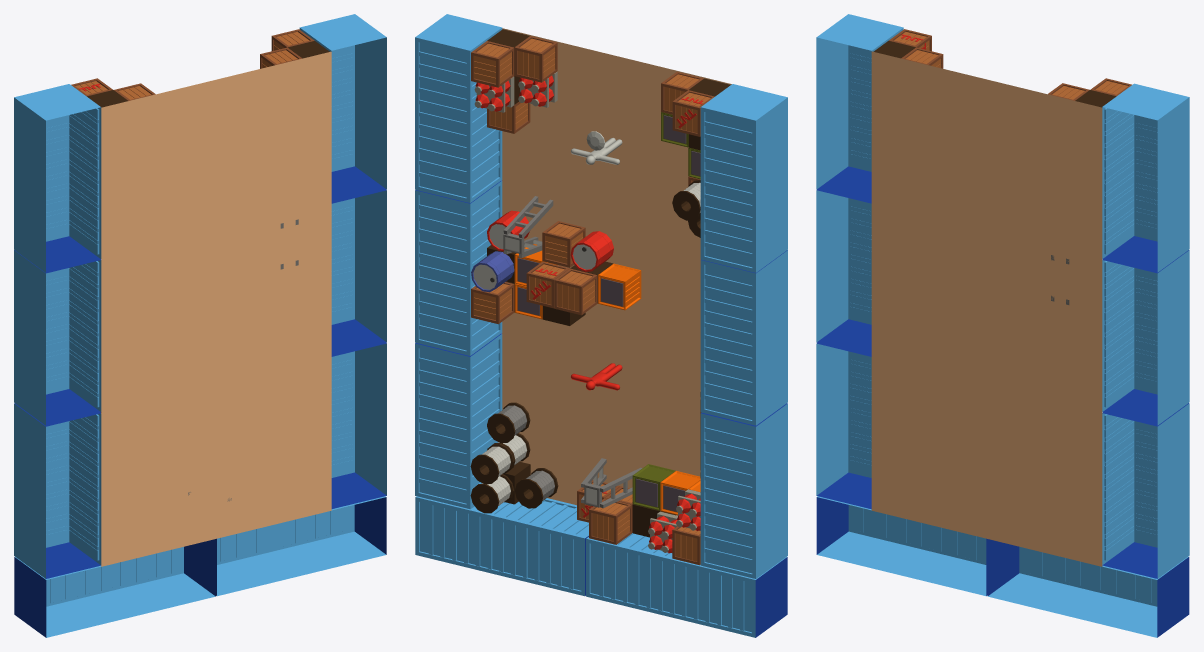
Rendered from port.fbx.
3 renders of one model, left to right at view 1: azimuth 30°, elevation 25°; view 2: azimuth 150°, elevation 25°; view 3: azimuth 330°, elevation 25°, orthographic.
Visible parts, largest first — view 1: Плоскость, Куб.035, Куб.002, Куб.001, Куб.050, Куб.003, Куб.049, Куб.048, Куб.045, Куб.016, Куб.012; view 2: Плоскость, Куб.035, Куб.002, Куб.001, Куб.003, Куб.050, Куб.049, Куб.048, Куб.045, Куб.039, Куб.012, Куб.036 (+31 smaller); view 3: Плоскость, Куб.003, Куб.048, Куб.045, Куб.049, Куб.035, Куб.050, Куб.002, Куб.001, Плоскость.001, Куб.024.
Part boxes in pixels (x1=…): Плоскость: x1=101, y1=51, x2=331, y2=566; Куб.035: x1=14, y1=84, x2=101, y2=272; Куб.002: x1=14, y1=403, x2=101, y2=578; Куб.001: x1=14, y1=250, x2=101, y2=425; Куб.050: x1=14, y1=539, x2=215, y2=637; Куб.003: x1=299, y1=14, x2=386, y2=202; Куб.049: x1=216, y1=496, x2=386, y2=596; Куб.048: x1=331, y1=343, x2=386, y2=508; Куб.045: x1=331, y1=190, x2=386, y2=355; Куб.016: x1=271, y1=29, x2=314, y2=50; Куб.012: x1=260, y1=47, x2=302, y2=68; Плоскость: x1=502, y1=28, x2=731, y2=515; Куб.035: x1=700, y1=84, x2=787, y2=272; Куб.002: x1=700, y1=403, x2=787, y2=578; Куб.001: x1=700, y1=250, x2=787, y2=425; Куб.003: x1=415, y1=14, x2=502, y2=202; Куб.050: x1=586, y1=533, x2=787, y2=637; Куб.049: x1=415, y1=496, x2=588, y2=596; Куб.048: x1=415, y1=333, x2=502, y2=509; Куб.045: x1=415, y1=180, x2=502, y2=355; Куб.039: x1=554, y1=268, x2=597, y2=315; Куб.012: x1=514, y1=36, x2=557, y2=82; Куб.036: x1=598, y1=263, x2=641, y2=310; Плоскость: x1=871, y1=51, x2=1102, y2=566; Куб.003: x1=1102, y1=83, x2=1189, y2=272; Куб.048: x1=1102, y1=403, x2=1189, y2=578; Куб.045: x1=1102, y1=250, x2=1189, y2=425; Куб.049: x1=987, y1=539, x2=1189, y2=637; Куб.035: x1=816, y1=14, x2=903, y2=202; Куб.050: x1=816, y1=496, x2=987, y2=596; Куб.002: x1=816, y1=343, x2=871, y2=509; Куб.001: x1=816, y1=190, x2=871, y2=355; Плоскость.001: x1=889, y1=29, x2=931, y2=51; Куб.024: x1=901, y1=47, x2=943, y2=68.
Size of the model in its own units: 1233 by 1788 by 202.
